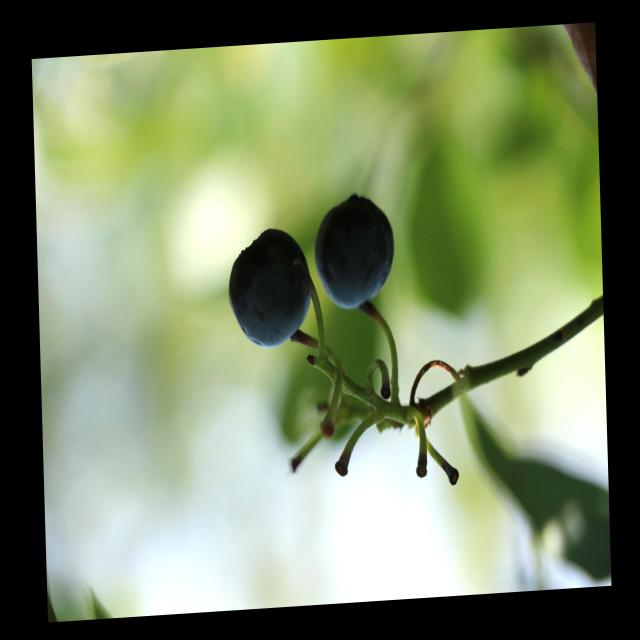blueberry: (223, 222, 316, 353), (308, 184, 399, 314)
